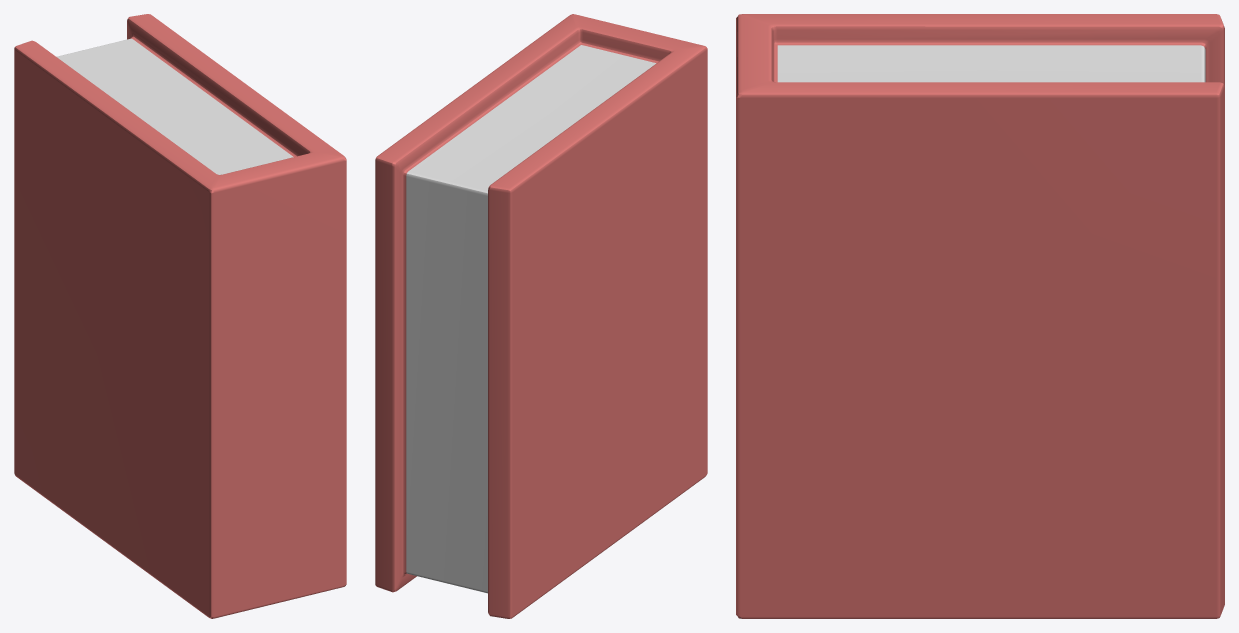
The model's file is RedBook.fbx.
The picture shows the model from 3 angles, left to right: view 1: azimuth 30°, elevation 25°; view 2: azimuth 150°, elevation 25°; view 3: azimuth 270°, elevation 25°; orthographic projection. The views are drawn at different scales.
Visible parts, largest first — view 1: pCube18; view 2: pCube18; view 3: pCube18.
Part boxes in pixels (x1,y1,x2,y2): pCube18: (14, 14, 346, 618); pCube18: (375, 14, 707, 618); pCube18: (736, 14, 1224, 618).
Size of the model in its own units: 0.6 by 1.8 by 1.51.
